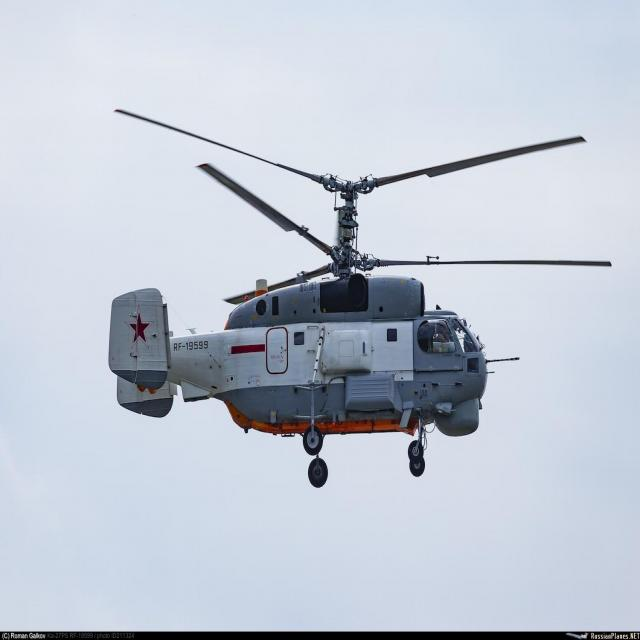MIL_HELO: (92, 97, 614, 510)
